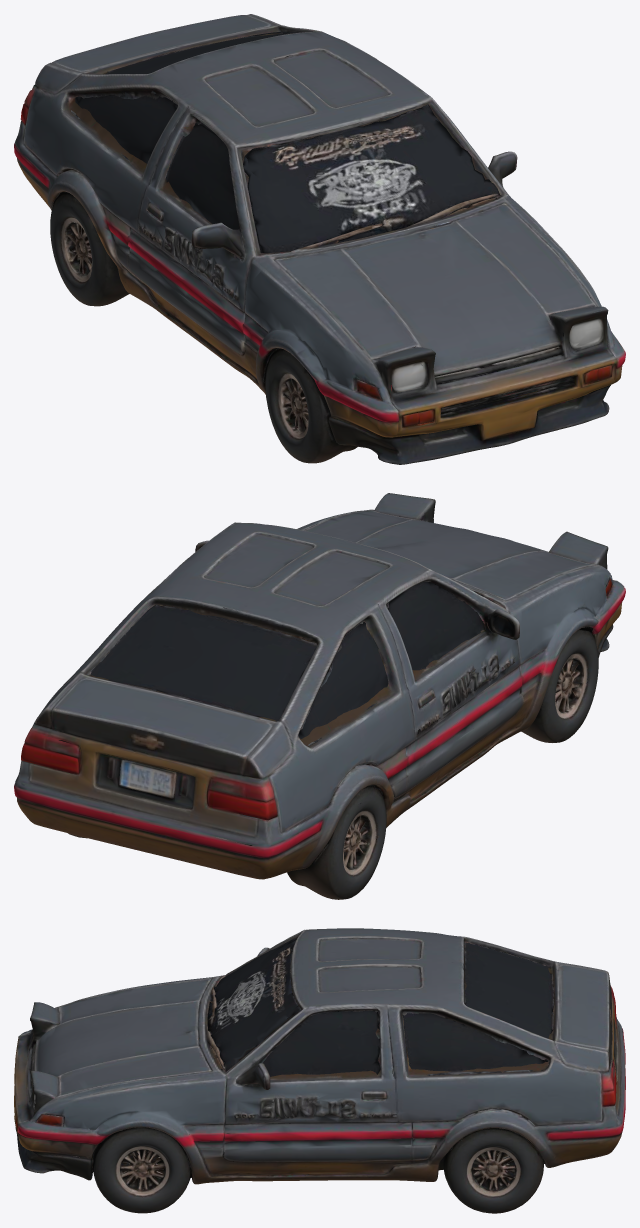
The picture shows the model from 3 angles, top to bottom: view 1: azimuth 30°, elevation 25°; view 2: azimuth 150°, elevation 25°; view 3: azimuth 270°, elevation 25°; orthographic projection. The views are drawn at different scales.
Parts seen in each view (by area): view 1: tripo_part_0, tripo_part_2, tripo_part_6, tripo_part_3, tripo_part_10, tripo_part_9, tripo_part_7; view 2: tripo_part_0, tripo_part_7, tripo_part_3, tripo_part_10, tripo_part_6, tripo_part_9; view 3: tripo_part_0, tripo_part_2, tripo_part_1, tripo_part_4, tripo_part_7, tripo_part_8, tripo_part_5.
Part boxes in pixels (x1,y1,x2,y2): tripo_part_0: [14, 14, 625, 464]; tripo_part_2: [243, 104, 500, 253]; tripo_part_6: [263, 348, 357, 463]; tripo_part_3: [50, 192, 129, 306]; tripo_part_10: [166, 122, 239, 229]; tripo_part_9: [71, 95, 177, 163]; tripo_part_7: [104, 31, 297, 74]; tripo_part_0: [14, 493, 625, 879]; tripo_part_7: [90, 604, 317, 721]; tripo_part_3: [287, 785, 386, 899]; tripo_part_10: [387, 581, 485, 670]; tripo_part_6: [521, 626, 598, 742]; tripo_part_9: [298, 622, 388, 745]; tripo_part_0: [14, 928, 625, 1184]; tripo_part_2: [207, 938, 300, 1071]; tripo_part_1: [92, 1127, 191, 1213]; tripo_part_4: [443, 1128, 543, 1213]; tripo_part_7: [464, 942, 554, 1038]; tripo_part_8: [263, 1010, 380, 1076]; tripo_part_5: [402, 1013, 549, 1075].
Bounding box in the file's own units: 0.5023 × 0.3587 × 1.
Materials: 12 (12 with a texture image).
